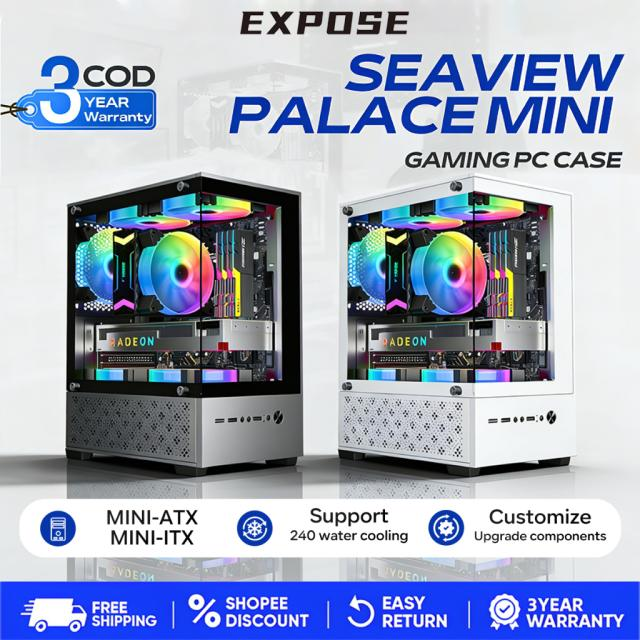electronics: (339, 175, 575, 475), (66, 174, 301, 474), (175, 61, 342, 251), (348, 193, 526, 316), (177, 61, 341, 175), (348, 226, 486, 314), (355, 319, 546, 381), (94, 319, 272, 382), (66, 456, 302, 499), (339, 457, 575, 500), (66, 457, 302, 499), (340, 457, 575, 499), (339, 458, 574, 499), (95, 319, 272, 357), (408, 231, 486, 315), (138, 231, 213, 315), (368, 319, 546, 352), (68, 557, 302, 582), (68, 557, 301, 582), (341, 557, 573, 581), (341, 557, 572, 581), (344, 557, 572, 581), (381, 193, 522, 230), (364, 356, 524, 382), (95, 355, 249, 382), (486, 228, 526, 317), (213, 230, 252, 317), (133, 557, 271, 580), (79, 557, 209, 581), (435, 188, 524, 222), (146, 558, 275, 581), (348, 228, 386, 304), (75, 228, 113, 302), (416, 557, 533, 580), (202, 557, 302, 581), (166, 193, 251, 221), (108, 202, 188, 230), (382, 202, 462, 230), (111, 228, 136, 314), (21, 598, 86, 631), (384, 229, 408, 313), (488, 228, 526, 277), (99, 353, 155, 369), (466, 368, 524, 382), (135, 226, 161, 249), (130, 296, 162, 313), (97, 559, 122, 579), (93, 368, 134, 380), (202, 557, 241, 568), (202, 557, 239, 568), (50, 517, 66, 541), (75, 286, 95, 302), (331, 97, 340, 118), (317, 289, 328, 304), (179, 351, 193, 362), (331, 101, 338, 112), (106, 566, 111, 579), (521, 571, 528, 579), (532, 571, 539, 577), (510, 311, 524, 314), (528, 562, 538, 566), (168, 351, 173, 358), (113, 338, 121, 342), (136, 559, 144, 562), (174, 362, 179, 366), (98, 559, 102, 564), (124, 571, 126, 579), (162, 558, 178, 559), (433, 506, 437, 510), (541, 574, 546, 577), (99, 571, 101, 578), (375, 214, 377, 221), (230, 157, 233, 161), (335, 113, 339, 116), (99, 566, 101, 571), (108, 564, 110, 568), (88, 373, 90, 377), (394, 357, 396, 360), (458, 355, 461, 357), (528, 416, 530, 418), (120, 377, 122, 379), (335, 119, 337, 121), (101, 359, 102, 362), (128, 560, 130, 561), (413, 361, 415, 362), (531, 210, 532, 211), (178, 558, 180, 558), (342, 106, 342, 108), (88, 377, 88, 379), (178, 371, 178, 379)
